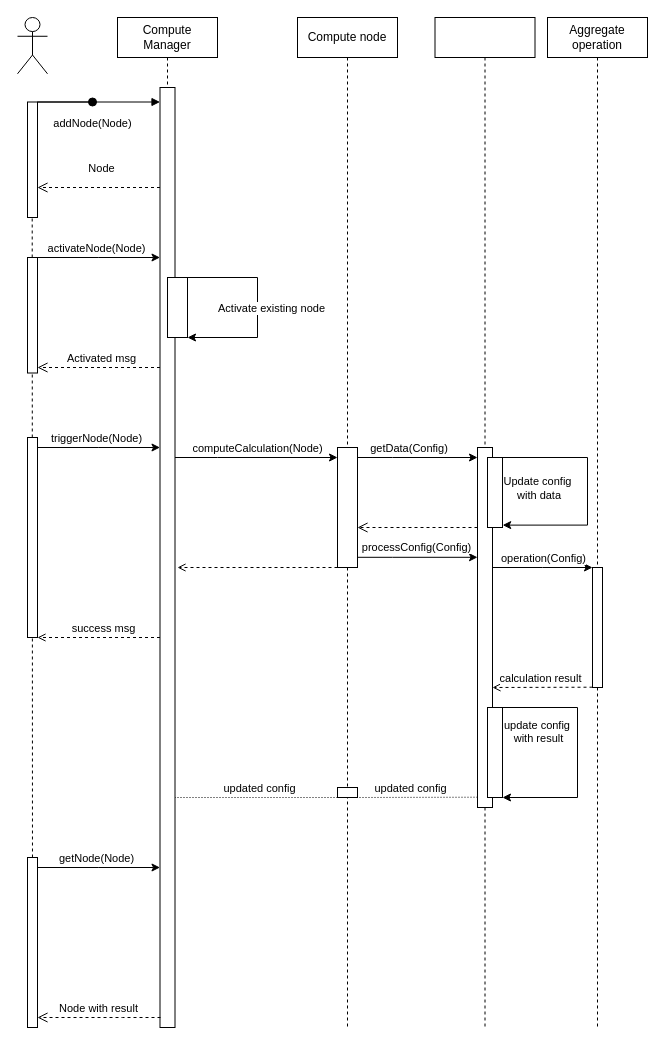
The diagram is 665 pixels wide and 1045 high, and some of its shapes have lost their labels. The shapes that lost their labels are listed below. From the top down, each one's box as (x1, y1, x2, y2) in pixels, then its label:
(16, 16, 48, 74): Client
(434, 16, 535, 1028): Compute config
